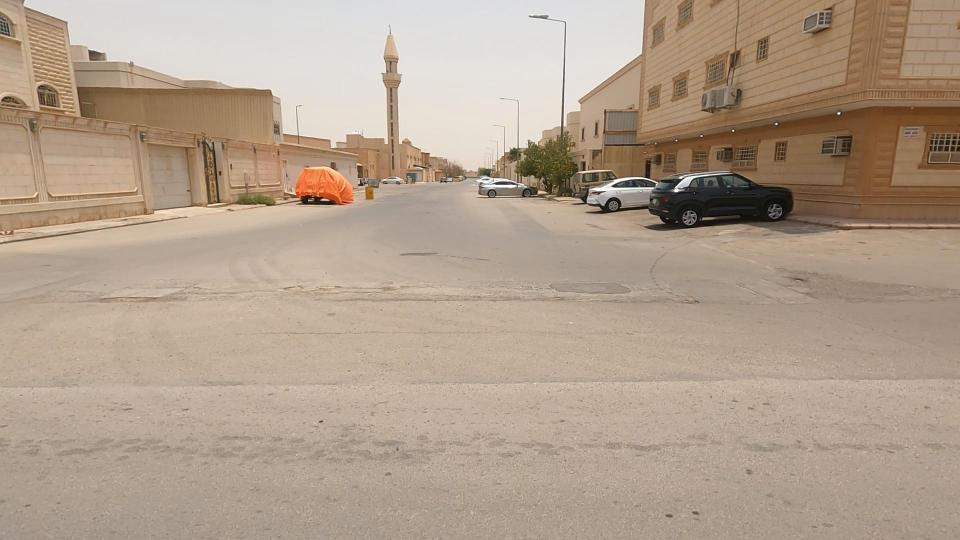POTHOLES: (40, 238, 290, 340), (206, 241, 455, 336), (748, 232, 871, 323)
